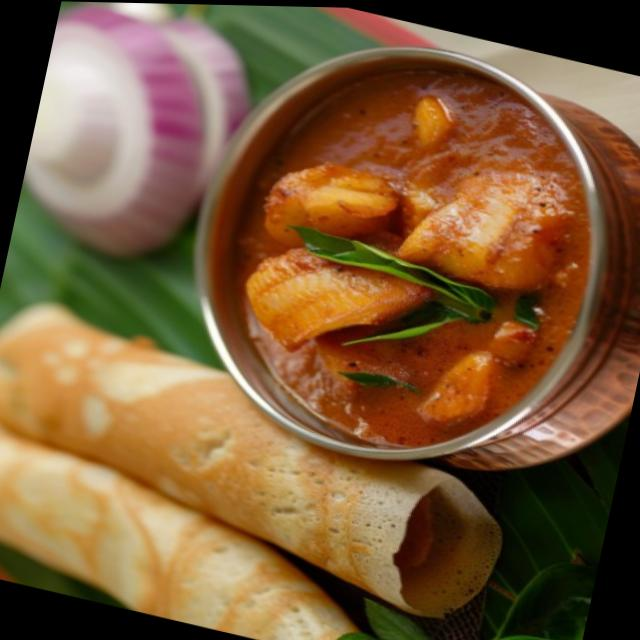DOSA: (0, 303, 498, 640), (243, 81, 589, 447)
